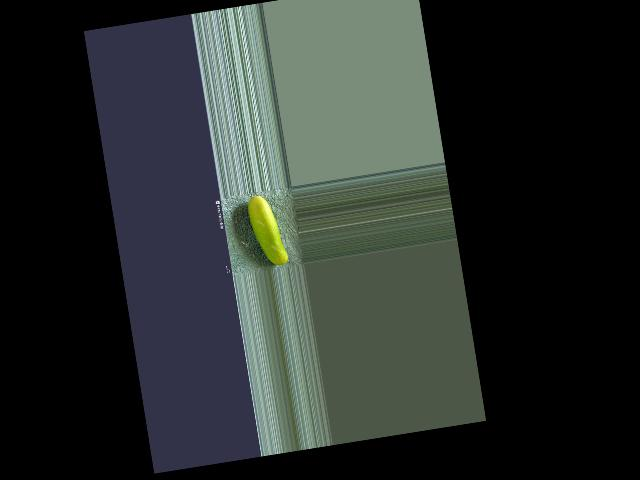cucumber: (245, 192, 289, 269)
